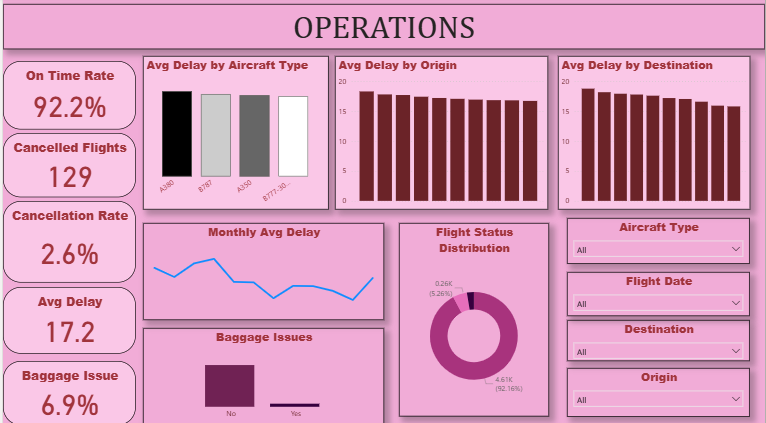

The dashboard page shown, as its layout file describes it:
{"tool":"powerbi","page":{"name":"Operations","canvas":[1280,720],"ordinal":2},"visuals":[{"type":"textbox","box":[0,11.8,1280,75.6],"z":1000},{"type":"card","title":"On Time Rate","fields":{"Values":["AirlineData.On Time Rate"]},"box":[0,106.7,223.3,115],"z":2000},{"type":"card","title":"Cancelled Flights","fields":{"Values":["AirlineData.Cancelled Flights"]},"box":[0,228.3,223.3,108.3],"z":3000},{"type":"card","title":"Cancellation Rate","fields":{"Values":["AirlineData.Cancellation Rate"]},"box":[0,343.3,223.3,136.7],"z":4000},{"type":"card","title":"Avg Delay","fields":{"Values":["AirlineData.Average Delay"]},"box":[0,486.7,223.3,111.7],"z":5000},{"type":"card","title":"Baggage Issue","fields":{"Values":["AirlineData.Baggage Issue Rate"]},"box":[0,611.7,223.3,108.3],"z":6000},{"type":"clusteredColumnChart","title":"Avg Delay by Aircraft Type","fields":{"Category":["AirlineData.Aircraft_Type"],"Y":["Avg(AirlineData.Delay_Minutes)"]},"box":[235,98.3,311.7,258.3],"z":7000},{"type":"clusteredColumnChart","title":"Avg Delay by Origin","fields":{"Category":["AirlineData.Origin"],"Y":["Avg(AirlineData.Delay_Minutes)"]},"box":[558.3,98.3,358.3,258.3],"z":8000},{"type":"clusteredColumnChart","title":"Avg Delay by Destination","fields":{"Category":["AirlineData.Destination"],"Y":["Avg(AirlineData.Delay_Minutes)"]},"box":[931.7,98.3,323.3,258.3],"z":9000},{"type":"donutChart","title":"Flight Status Distribution","fields":{"Category":["AirlineData.Flight_Status"],"Y":["CountNonNull(AirlineData.Flight_ID)"]},"box":[665,380,251.7,325],"z":10000},{"type":"clusteredColumnChart","title":"Baggage Issues","fields":{"Category":["AirlineData.Baggage_Issue"],"Y":["CountNonNull(AirlineData.Passenger_ID)"]},"box":[235,556.7,405,163.3],"z":11000},{"type":"lineChart","title":"Monthly Avg Delay","fields":{"Category":["AirlineData.Flight_Date.Variation.Date Hierarchy.Month"],"Y":["Avg(AirlineData.Delay_Minutes)"]},"box":[235,380,405,163.3],"z":12000},{"type":"slicer","title":"Flight Date","fields":{"Values":["AirlineData.Flight_Date"]},"box":[947.4,461.9,307.4,73.9],"z":13000},{"type":"slicer","title":"Aircraft Type","fields":{"Values":["AirlineData.Aircraft_Type"]},"box":[947.4,371.2,307.4,77.3],"z":14000},{"type":"slicer","title":"Origin","fields":{"Values":["AirlineData.Origin"]},"box":[947.4,623.2,307.4,82.3],"z":15000},{"type":"slicer","title":"Destination","fields":{"Values":["AirlineData.Destination"]},"box":[947.4,542.6,307.4,68.9],"z":16000}]}

Visuals, with their boxes in screenshot pixels (x1, y1, x2, y2), scaled from the page's 1280x720 canvas onto the 766x423 screenshot:
textbox: [0, 7, 765, 51]
"On Time Rate" card: [0, 63, 134, 130]
"Cancelled Flights" card: [0, 134, 134, 198]
"Cancellation Rate" card: [0, 202, 134, 282]
"Avg Delay" card: [0, 286, 134, 352]
"Baggage Issue" card: [0, 359, 134, 422]
"Avg Delay by Aircraft Type" clusteredColumnChart: [141, 58, 327, 210]
"Avg Delay by Origin" clusteredColumnChart: [334, 58, 549, 210]
"Avg Delay by Destination" clusteredColumnChart: [558, 58, 751, 210]
"Flight Status Distribution" donutChart: [398, 223, 549, 414]
"Baggage Issues" clusteredColumnChart: [141, 327, 383, 422]
"Monthly Avg Delay" lineChart: [141, 223, 383, 319]
"Flight Date" slicer: [567, 271, 751, 315]
"Aircraft Type" slicer: [567, 218, 751, 263]
"Origin" slicer: [567, 366, 751, 414]
"Destination" slicer: [567, 319, 751, 359]
